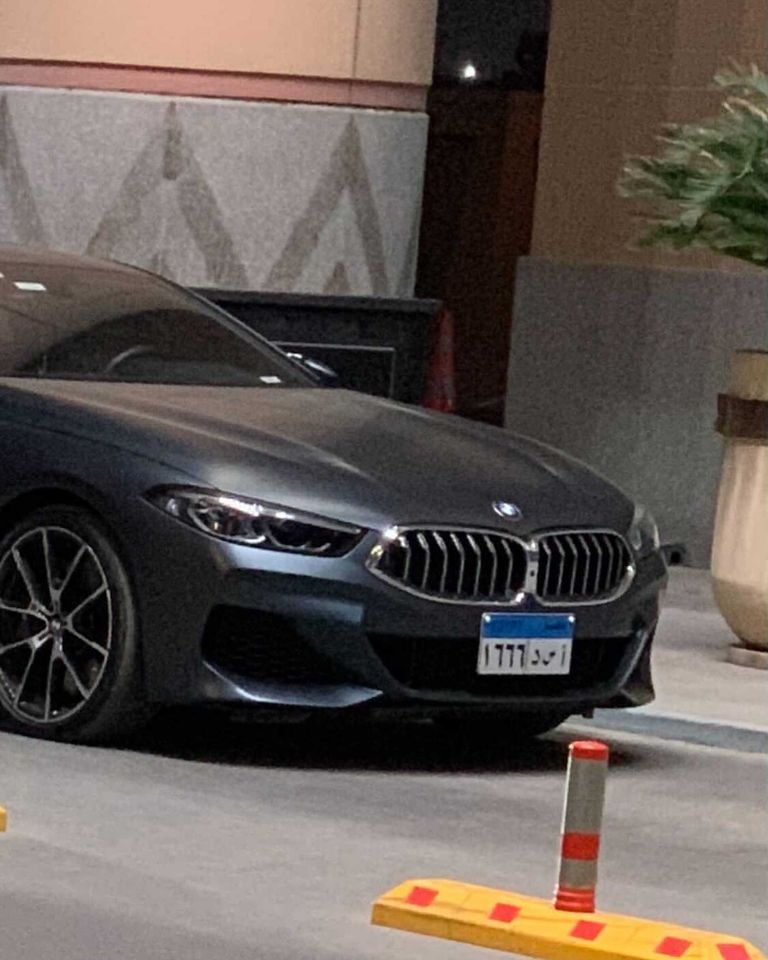carpl: (477, 611, 572, 678)
